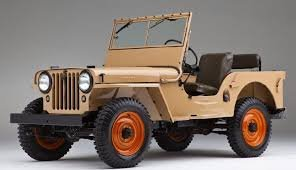mobil: (12, 8, 289, 168)
